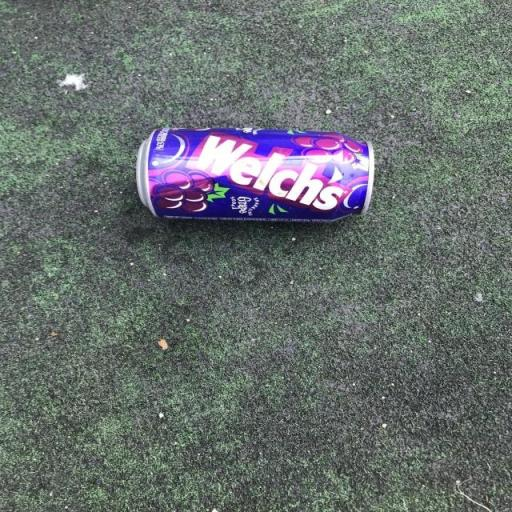metal: (122, 97, 438, 267)
